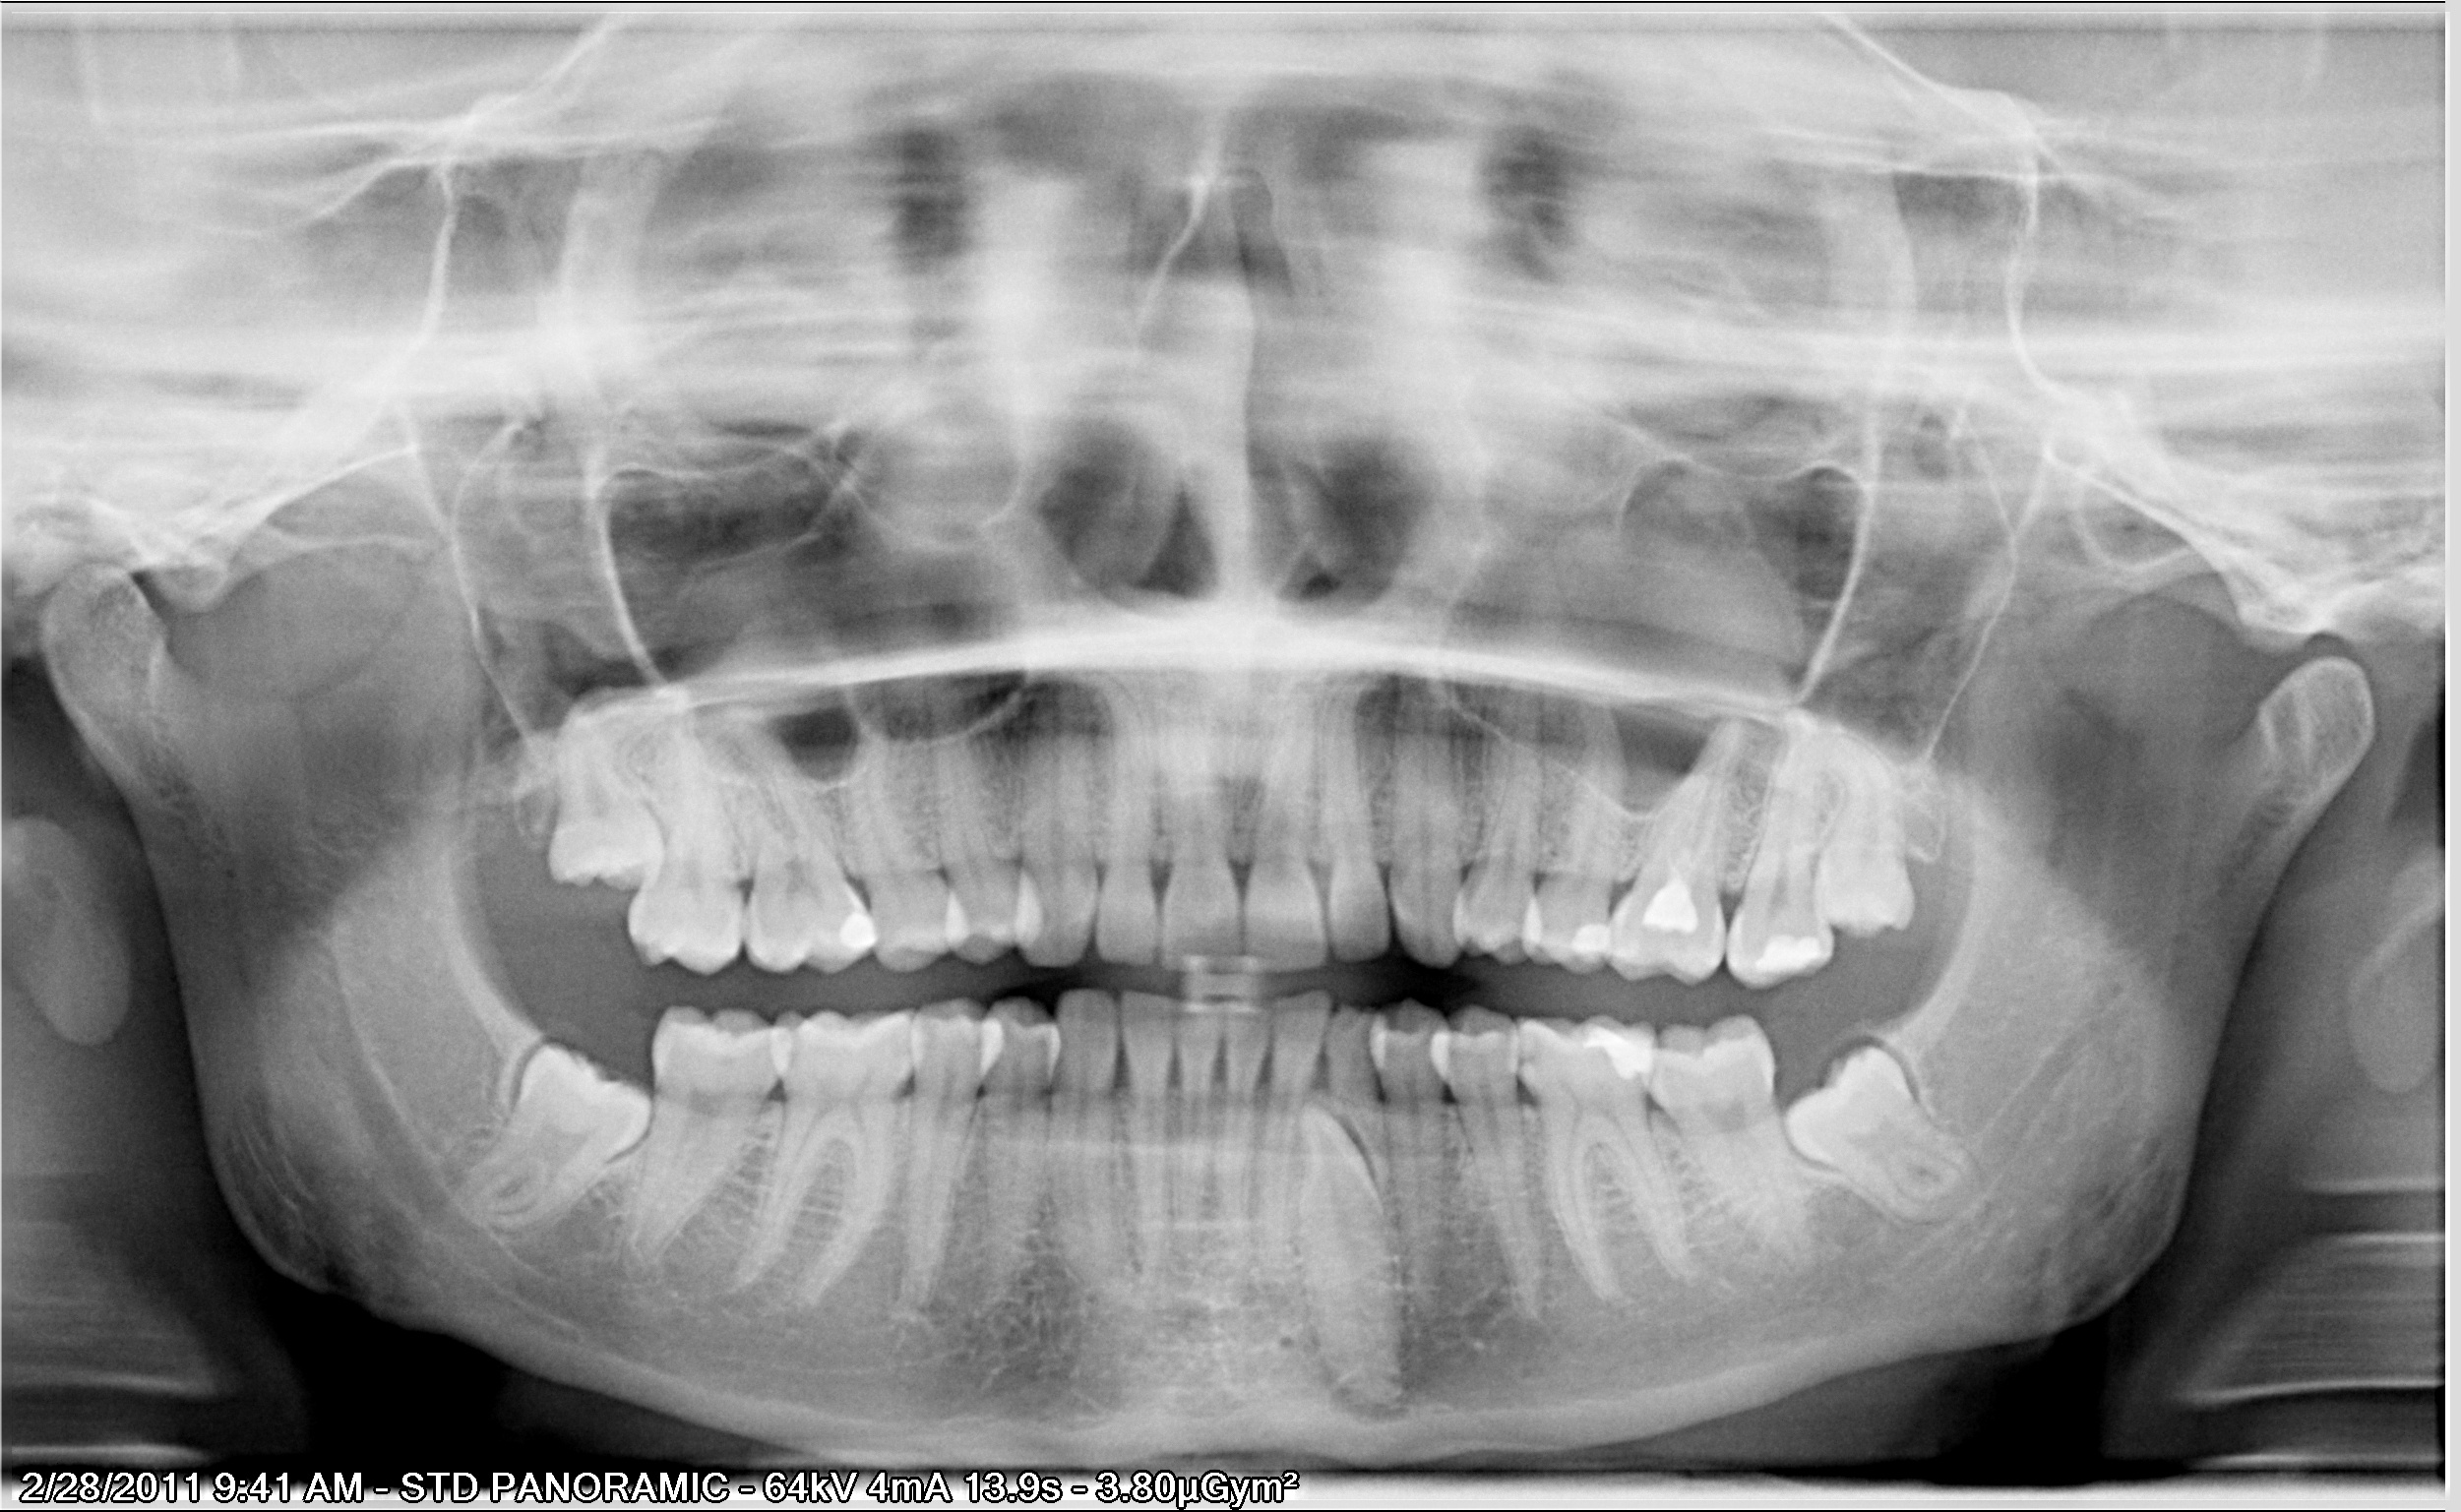CAR: (1514, 1027, 1556, 1085)
IMT: (1248, 1081, 1426, 1442), (1763, 988, 1995, 1239), (445, 1036, 687, 1255), (517, 665, 698, 902)
OBT: (1631, 854, 1707, 972), (1742, 911, 1842, 990), (1579, 1007, 1656, 1092), (814, 895, 888, 962), (1554, 907, 1631, 960)
